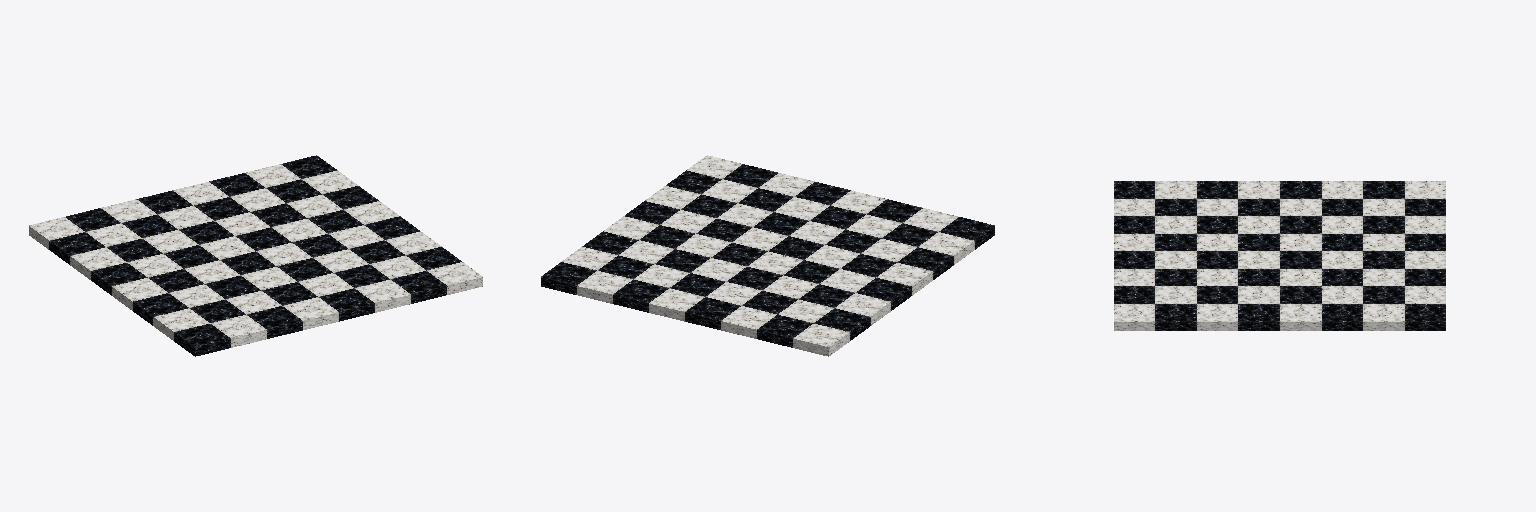
3 views of the same model, side by side, from view 1: azimuth 30°, elevation 25°; view 2: azimuth 150°, elevation 25°; view 3: azimuth 270°, elevation 25° (orthographic).
Parts seen in each view (by area): view 1: board_Cube.003; view 2: board_Cube.003; view 3: board_Cube.003.
Part boxes in pixels (left/top/right/bottom): board_Cube.003: left=29, top=155, right=482, bottom=356; board_Cube.003: left=541, top=155, right=994, bottom=356; board_Cube.003: left=1114, top=181, right=1445, bottom=330.
Size of the model in its own units: 16 by 0.5 by 16.
Materials: 2 (2 with a texture image).